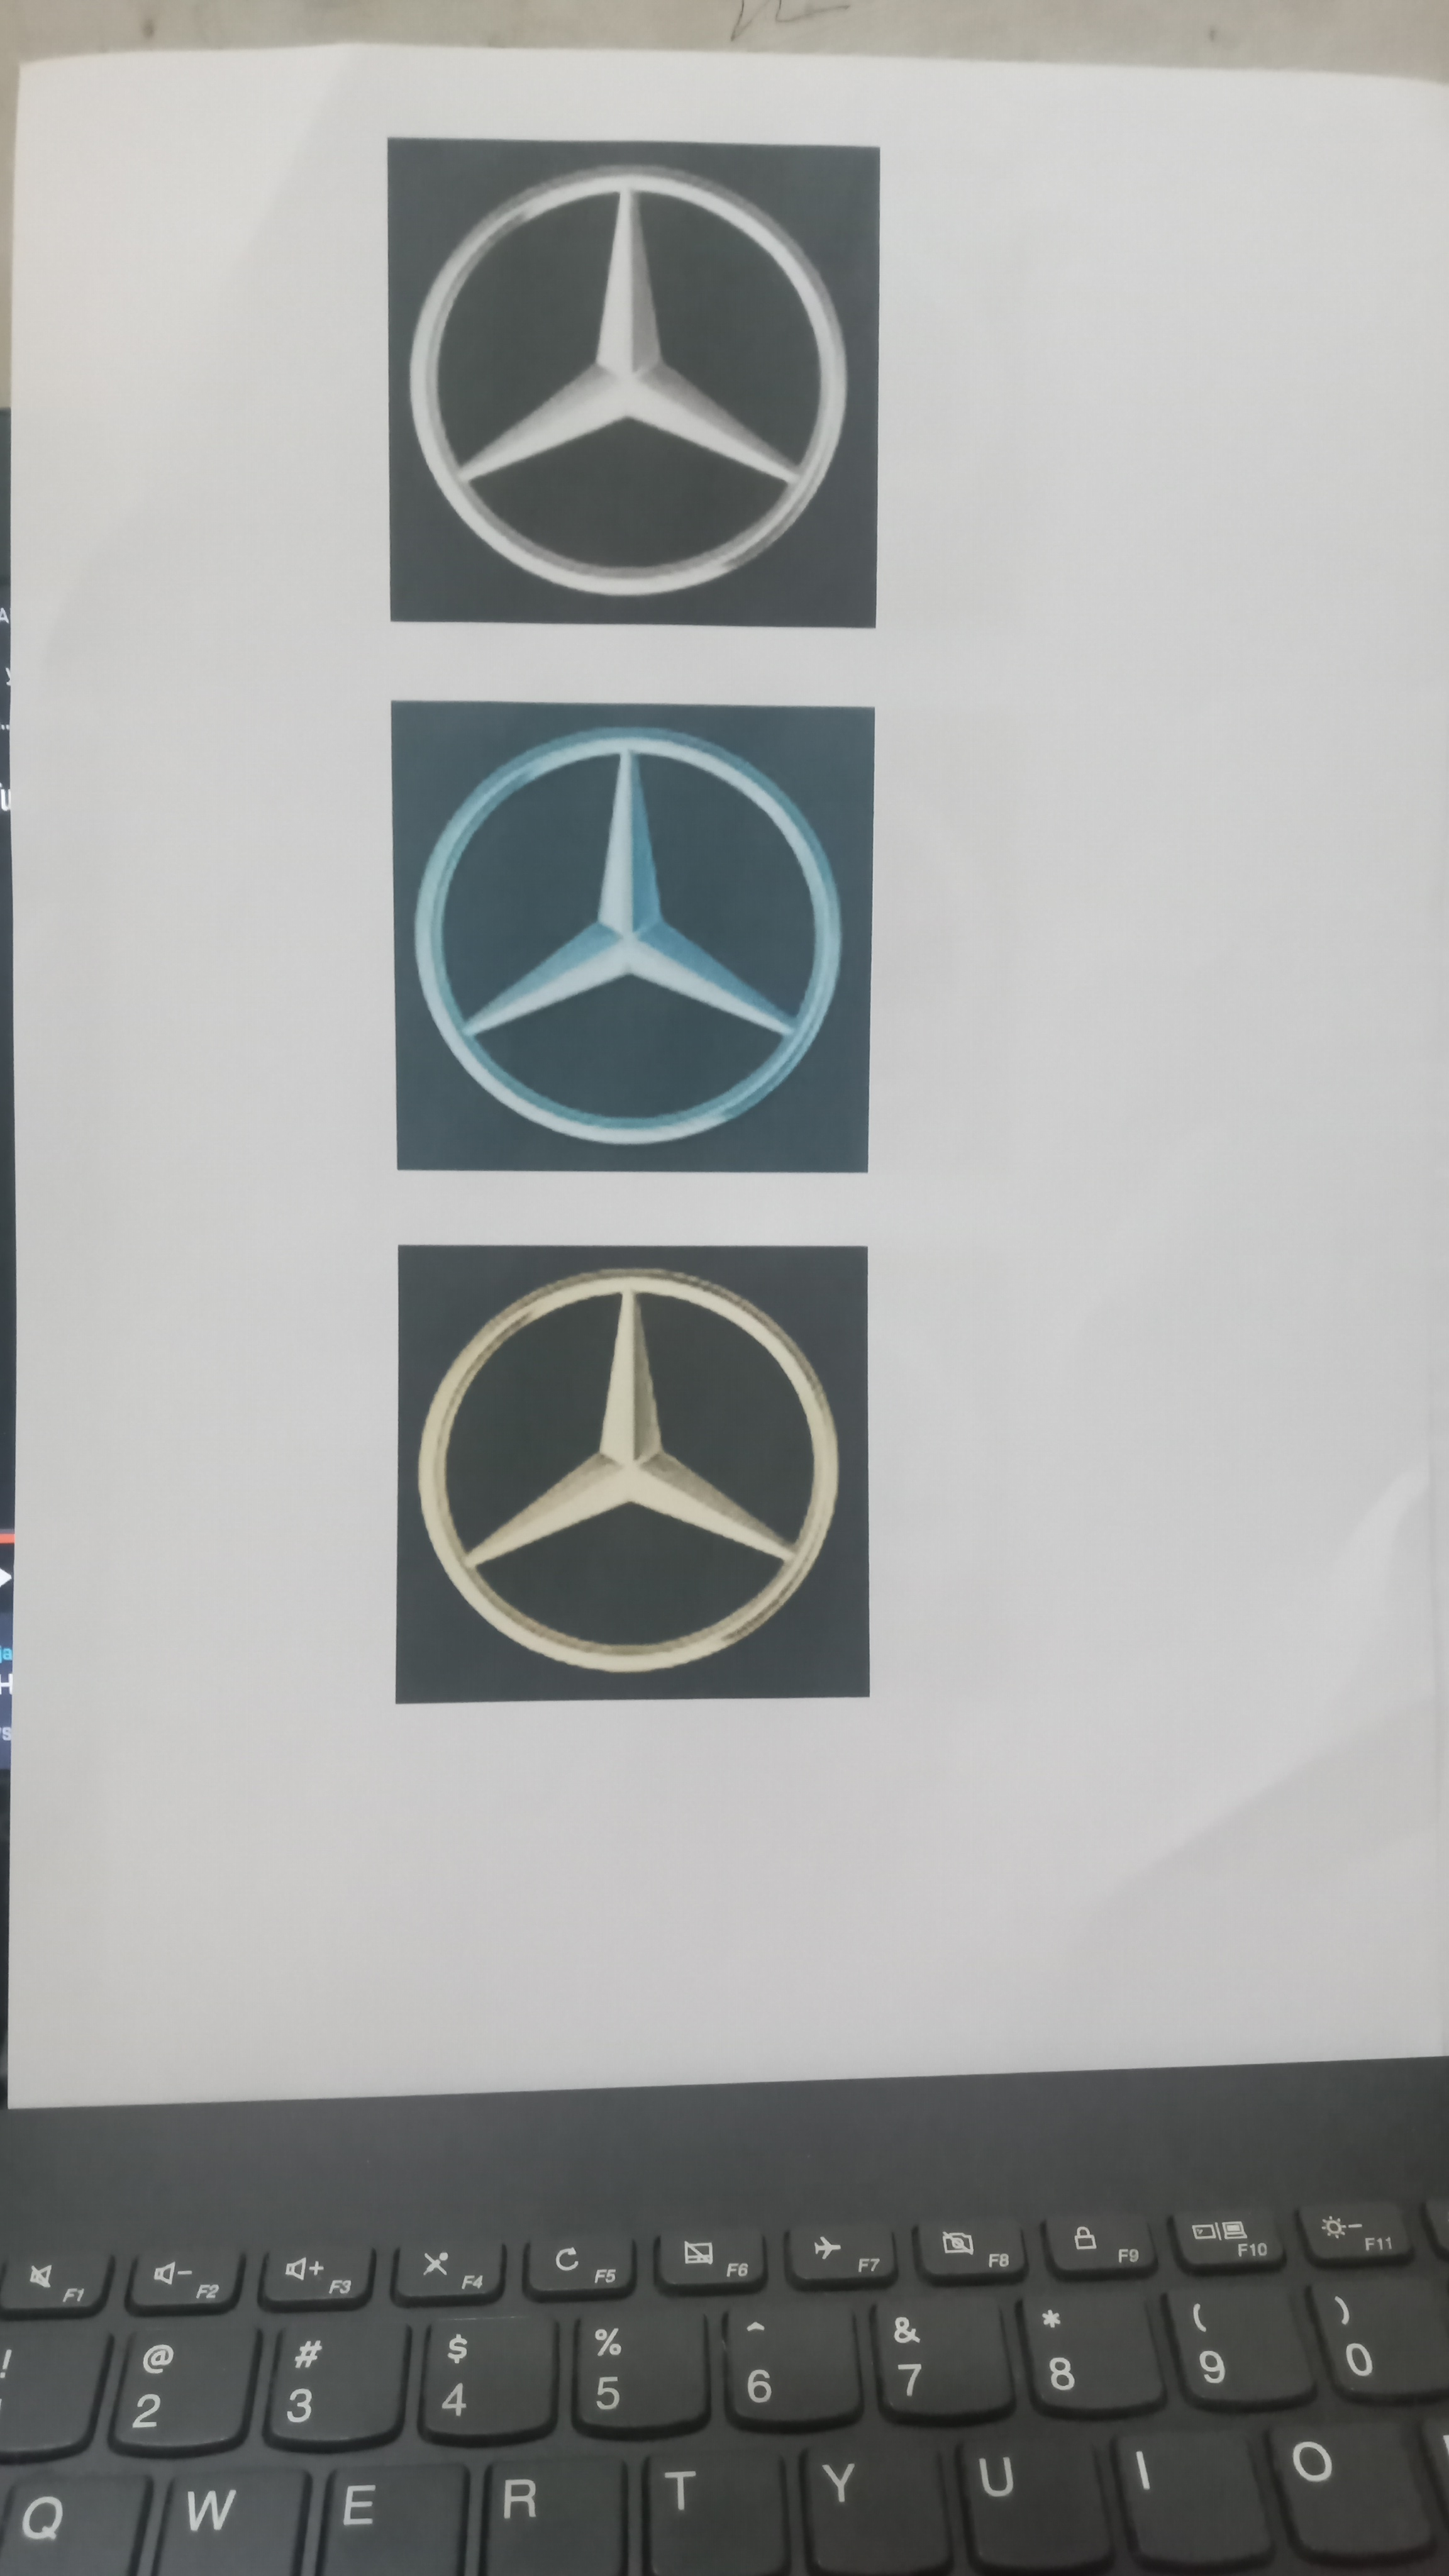Mercedes: (395, 152, 876, 617), (400, 713, 858, 1161), (402, 1256, 858, 1688)
